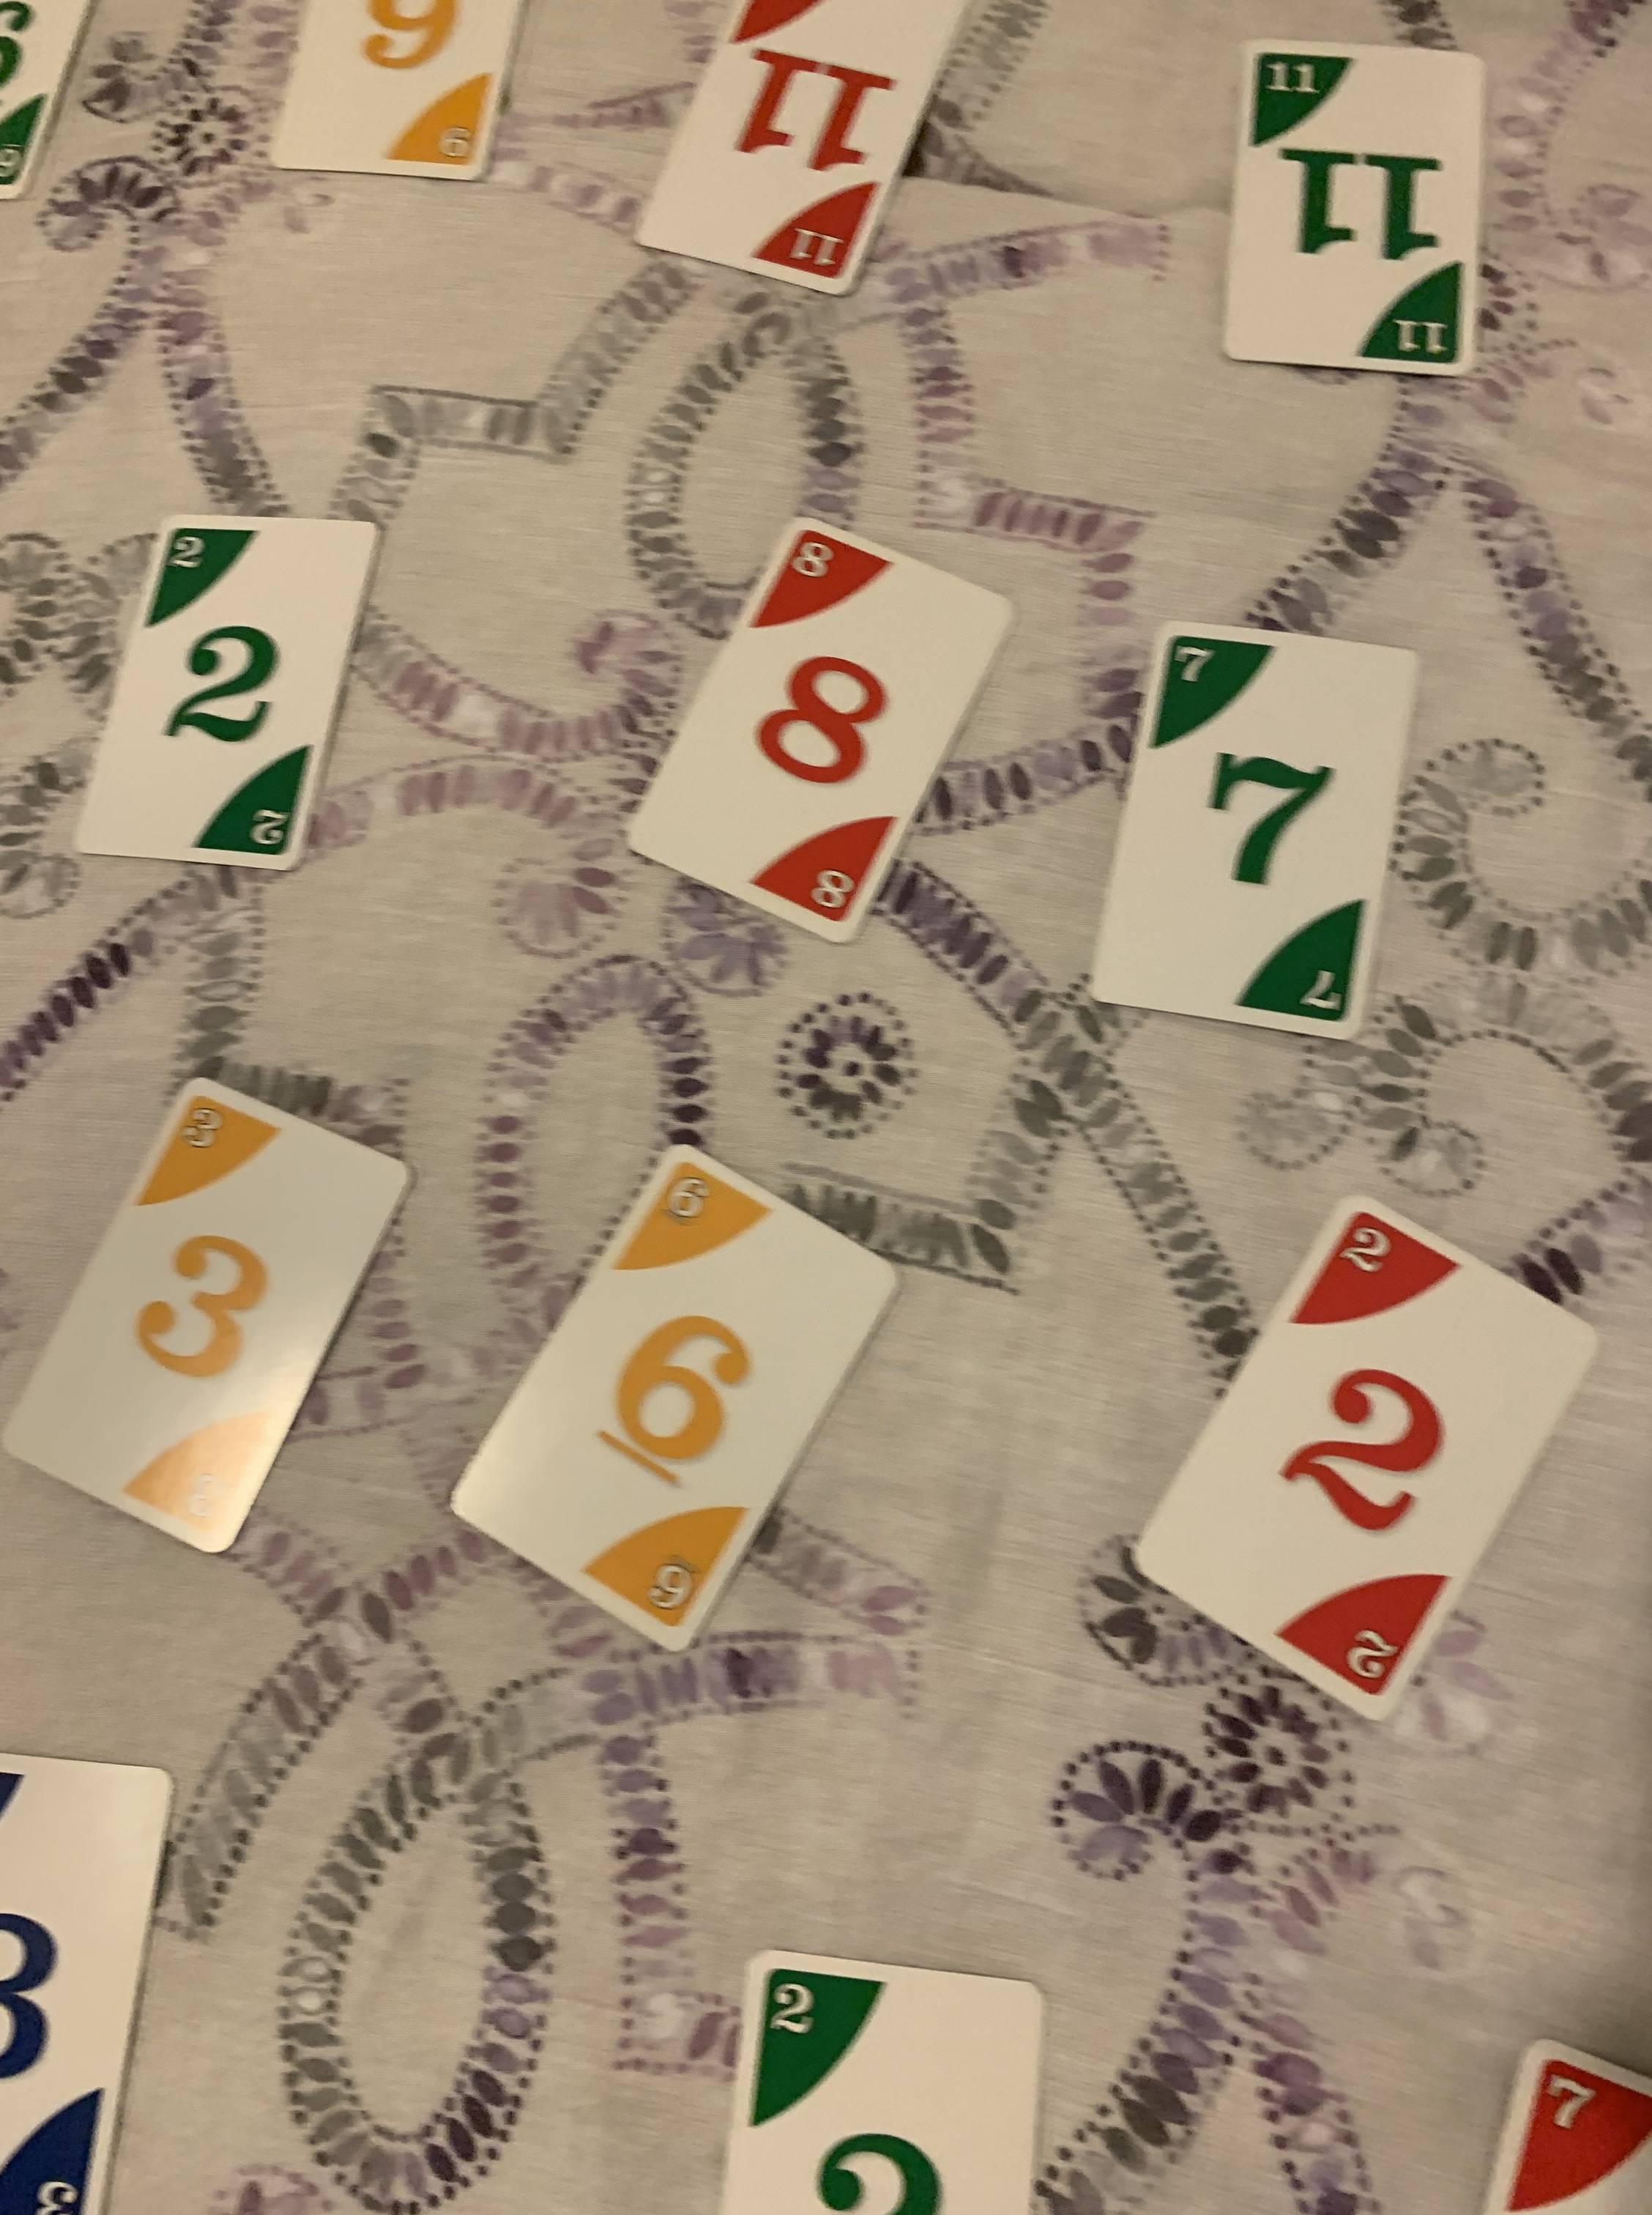eight: (626, 512, 1017, 948)
eleven: (647, 0, 975, 292), (1213, 38, 1491, 380)
seven: (1085, 616, 1421, 1054)
six: (443, 1142, 902, 1656)
three: (0, 1080, 413, 1559)
two: (1121, 1198, 1598, 1722), (75, 507, 380, 873)
